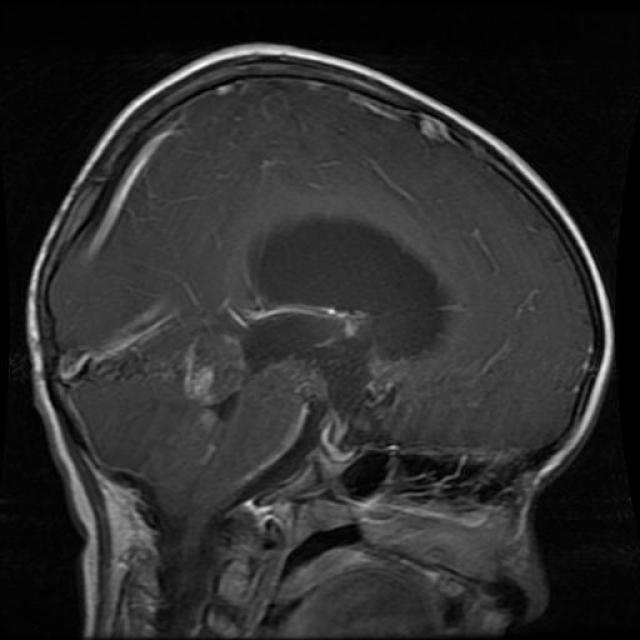glioma: (242, 212, 456, 416)
